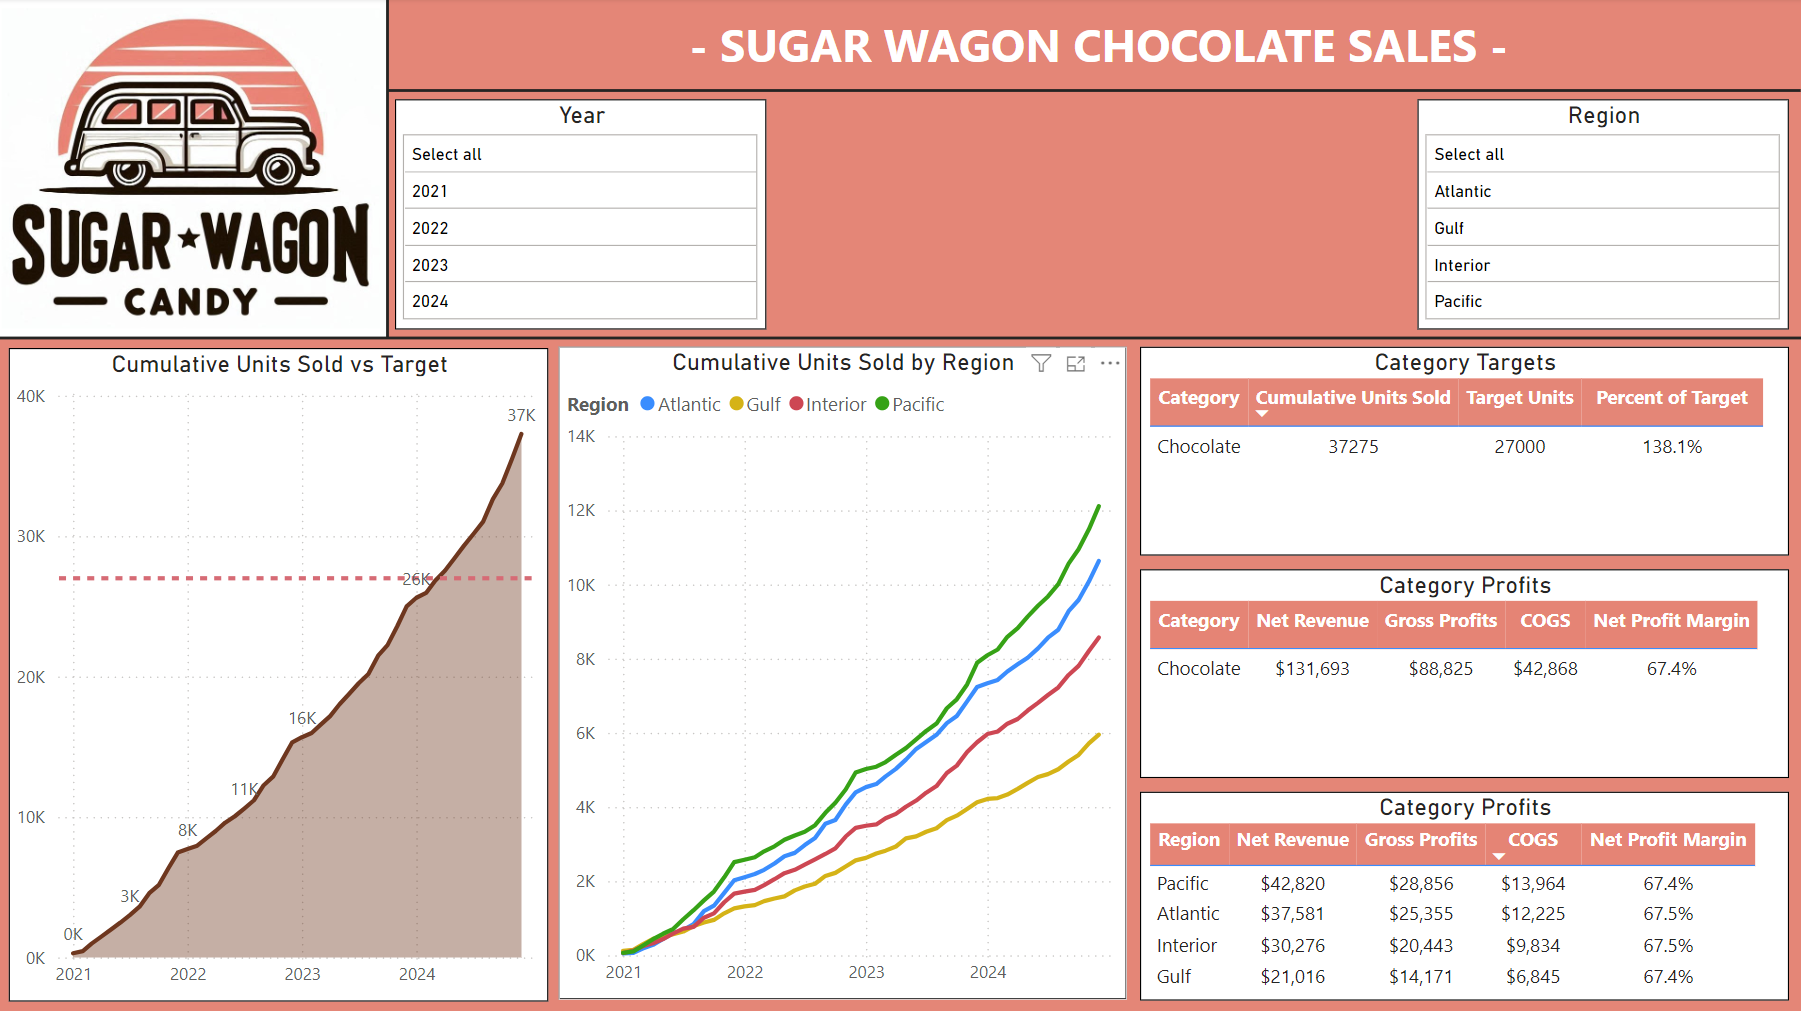

What the dashboard file says about the page in this screenshot:
{"tool":"powerbi","page":{"name":"Chocolate","canvas":[1280,720],"ordinal":1},"visuals":[{"type":"image","box":[0,0,278.2,241],"z":0},{"type":"shape","box":[0,234.8,1280.2,12.4],"z":2000},{"type":"shape","box":[272,0,12.4,241],"z":3000},{"type":"shape","box":[278.2,59.4,1002,12.4],"z":4000},{"type":"textbox","box":[284.4,6.2,995.8,53.2],"z":5000},{"type":"lineChart","title":"Cumulative Units Sold by Region","fields":{"Category":["dim Dates (OrderDate).FirstDayOfMonth"],"Series":["fact CandySales.Region"],"Y":["fact CandySales.CumulativeUnits (Division)"]},"box":[399.6,247.2,402.2,462.5],"z":6000},{"type":"tableEx","title":"Category Targets","fields":{"Values":["fact CandySales.Division","fact CandySales.CumulativeUnits (Division)","dim CandyTargets.Target","fact CandySales.Percent of Target (Division)"]},"box":[811.5,247.2,459.8,148],"z":7000},{"type":"lineChart","title":"Cumulative Units Sold vs Target","fields":{"Category":["dim Dates (OrderDate).FirstDayOfMonth"],"Y":["fact CandySales.(SUM) UnitsCumulative"]},"box":[9.7,248.1,382.7,463.3],"z":8000},{"type":"advancedSlicerVisual","fields":{"Values":["dim Dates (OrderDate).Date.Variation.Date Hierarchy.Year"]},"box":[283.9,71.4,263.5,163.3],"z":9000},{"type":"tableEx","title":"Category Profits","fields":{"Values":["fact CandySales.Division","fact CandySales.(SUM) SalesCumulative","fact CandySales.(SUM) ProfitCumulative","fact CandySales.(SUM) COGSCumulative","fact CandySales.(%) Net Profit Margin"]},"box":[811.5,404.9,459.8,148],"z":10000},{"type":"advancedSlicerVisual","fields":{"Values":["fact CandySales.Region"]},"box":[1008.2,71.8,263.1,163],"z":12000},{"type":"tableEx","title":"Category Profits","fields":{"Values":["fact CandySales.Region","fact CandySales.(SUM) SalesCumulative","fact CandySales.(SUM) ProfitCumulative","fact CandySales.(SUM) COGSCumulative","fact CandySales.(%) Net Profit Margin"]},"box":[811.5,562.6,459.8,148],"z":13000}]}

Visuals, with their boxes in screenshot pixels (x1, y1, x2, y2), scaled from the page's 1280x720 canvas onto the 1801x1011 screenshot:
image: [0, 0, 391, 338]
shape: [0, 330, 1800, 347]
shape: [383, 0, 400, 338]
shape: [391, 83, 1800, 101]
textbox: [400, 9, 1800, 83]
"Cumulative Units Sold by Region" lineChart: [562, 347, 1128, 997]
"Category Targets" tableEx: [1142, 347, 1789, 555]
"Cumulative Units Sold vs Target" lineChart: [14, 348, 552, 999]
advancedSlicerVisual - dim Dates (OrderDate).Date.Variation.Date Hierarchy.Year: [399, 100, 770, 330]
"Category Profits" tableEx: [1142, 569, 1789, 776]
advancedSlicerVisual - fact CandySales.Region: [1419, 101, 1789, 330]
"Category Profits" tableEx: [1142, 790, 1789, 998]
